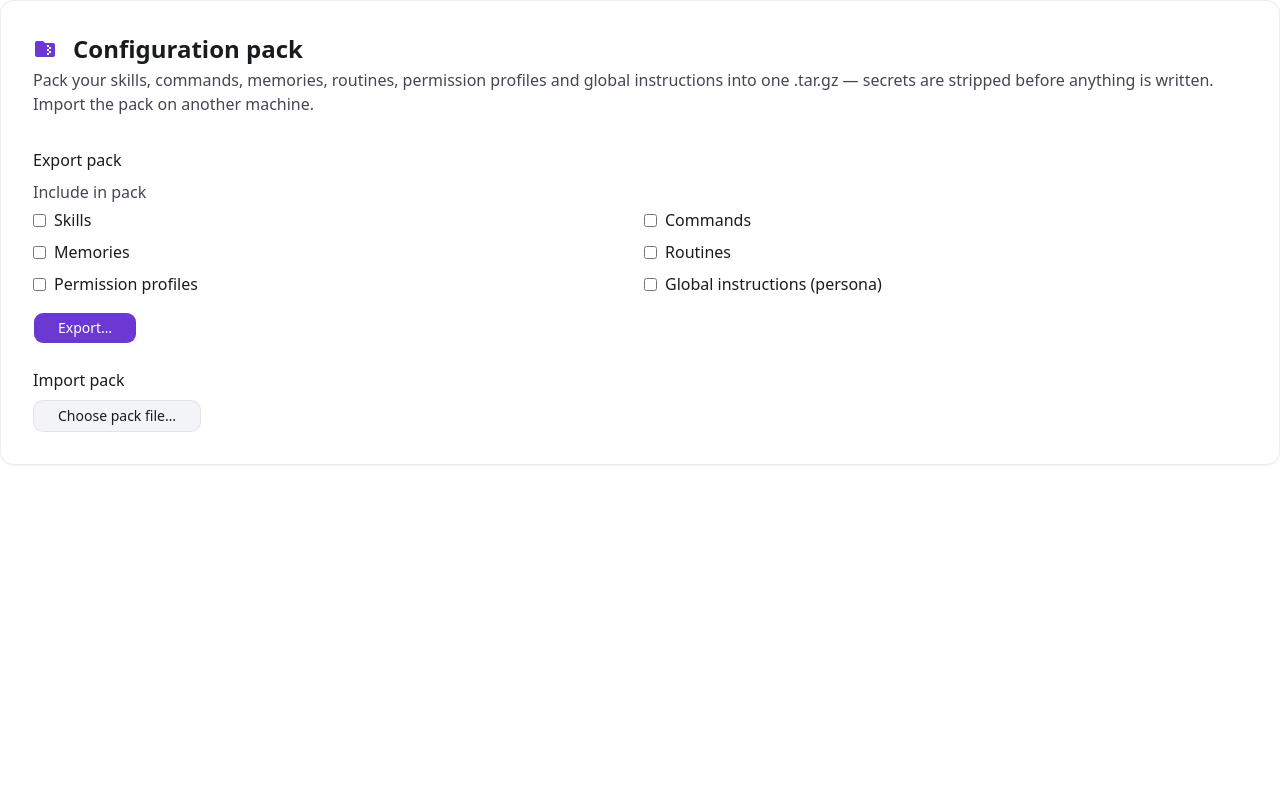
PersonaPackSettings › export flow: zero stripped secrets shows the clean note
Click the button with test id "persona-pack-export": x=85, y=328 [33,312,137,344]
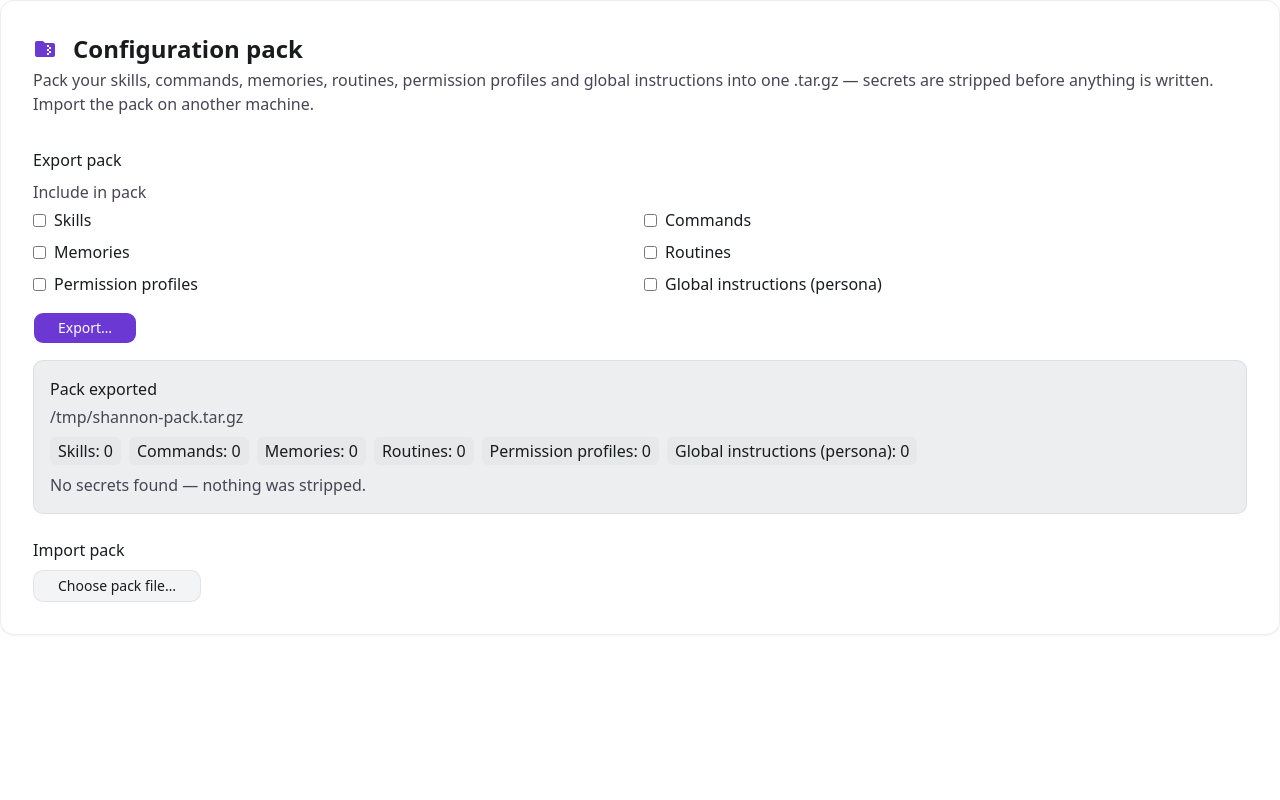
Check: the message with test id "persona-pack-export-result" is shown, box [33,360,1247,514]
Check: the text "No secrets found — nothing was stripped." is shown, box [50,474,366,496]
